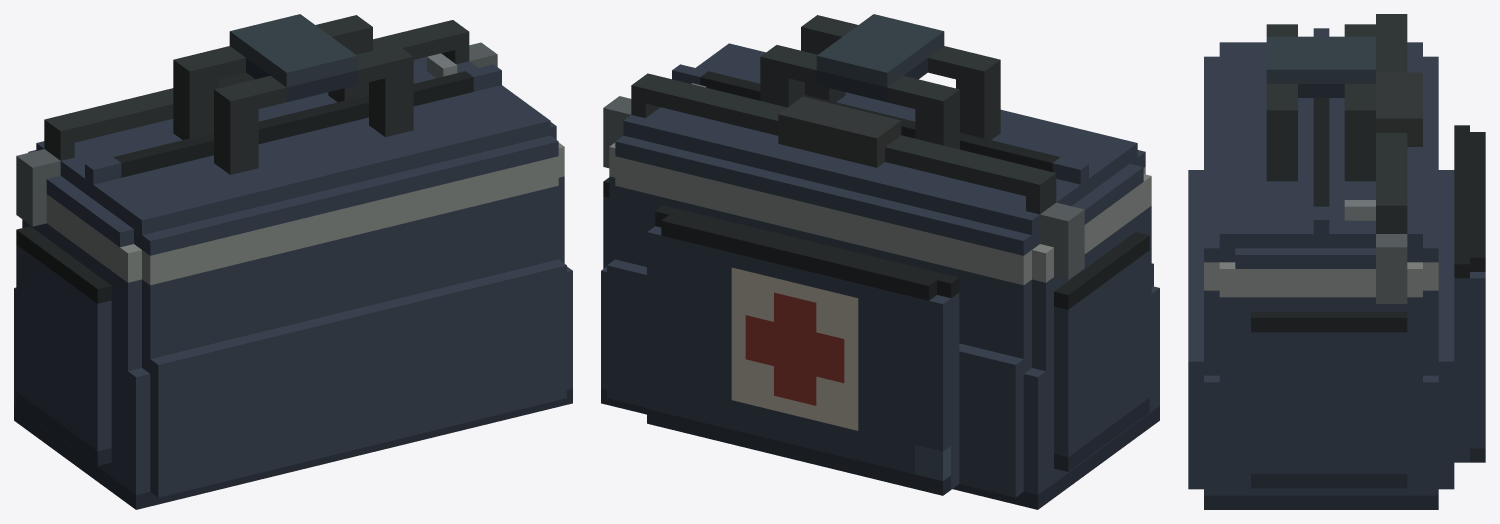
File: Claude_medical_bag.glb
The picture shows the model from 3 angles, left to right: view 1: azimuth 30°, elevation 25°; view 2: azimuth 150°, elevation 25°; view 3: azimuth 270°, elevation 25°; orthographic projection. The views are drawn at different scales.
Visible parts, largest first — view 1: Claude_medical_bag; view 2: Claude_medical_bag; view 3: Claude_medical_bag.
Part boxes in pixels (x1,y1,x2,y2): Claude_medical_bag: (14, 14, 572, 509); Claude_medical_bag: (601, 14, 1159, 509); Claude_medical_bag: (1188, 14, 1485, 509).
Size of the model in its own units: 0.4125 by 0.3125 by 0.2375.
